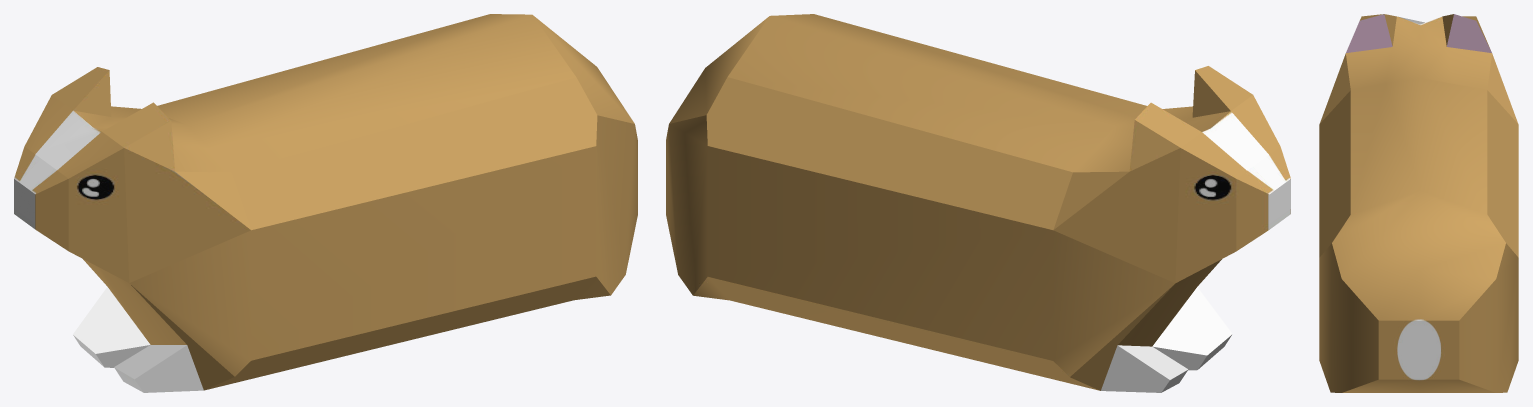
File: cuy.fbx
The picture shows the model from 3 angles, left to right: view 1: azimuth 30°, elevation 25°; view 2: azimuth 150°, elevation 25°; view 3: azimuth 270°, elevation 25°; orthographic projection. The views are drawn at different scales.
Parts seen in each view (by area): view 1: pCube1; view 2: pCube1; view 3: pCube1.
Part boxes in pixels (x1,y1,x2,y2): pCube1: (14, 14, 637, 392); pCube1: (666, 14, 1290, 392); pCube1: (1319, 14, 1518, 392).
Size of the model in its own units: 70.26 by 33.58 by 26.03.
1 material, 1 textured.
